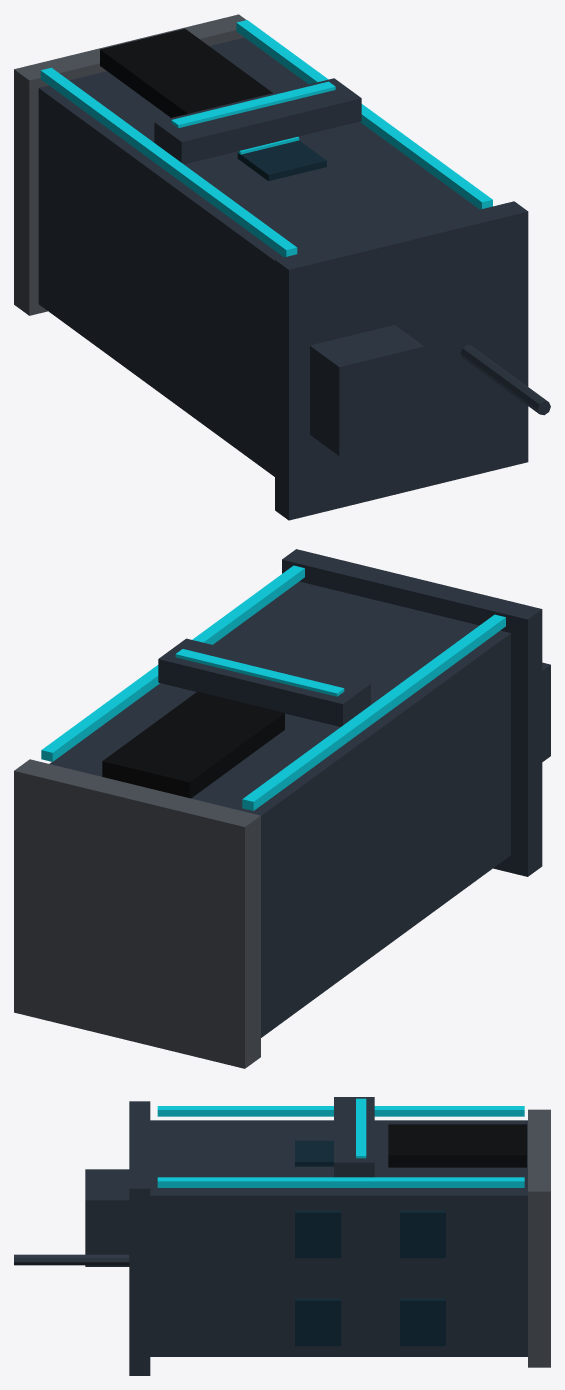
File: ENV_building_relay.obj
The picture shows the model from 3 angles, top to bottom: view 1: azimuth 30°, elevation 25°; view 2: azimuth 150°, elevation 25°; view 3: azimuth 270°, elevation 25°; orthographic projection. The views are drawn at different scales.
Parts seen in each view (by area): view 1: ENV_building_relay; view 2: ENV_building_relay; view 3: ENV_building_relay.
Part boxes in pixels (x1,y1,x2,y2): ENV_building_relay: [14, 14, 550, 520]; ENV_building_relay: [14, 549, 550, 1068]; ENV_building_relay: [14, 1097, 550, 1375].
Size of the model in its own units: 1.97 by 2.16 by 5.12.
